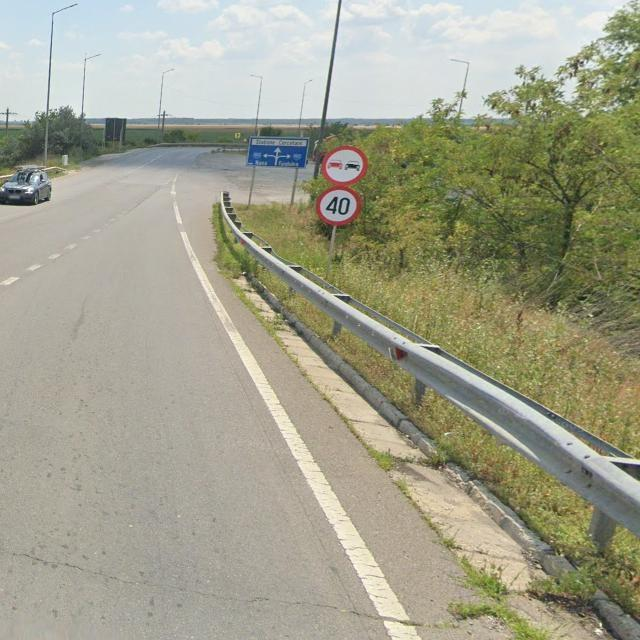forb_overtake: (323, 146, 368, 186)
forb_speed_over_40: (316, 186, 361, 226)
